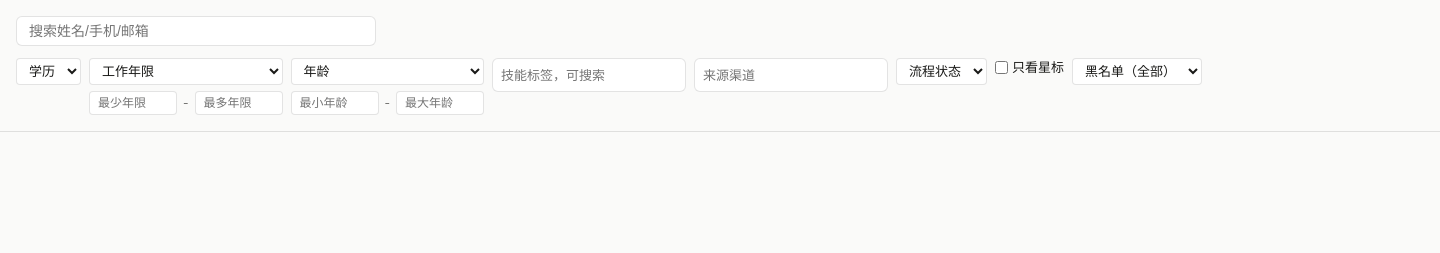
TalentPoolFilters › renders source options in multi-select menu
Focus the field with class "filters__source-input" at (791,75), box top-left (703, 63), bottom-right (879, 87)
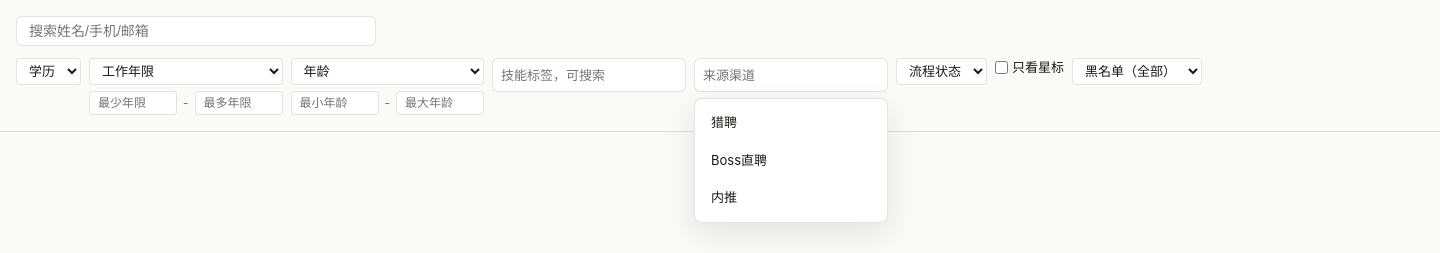
Expected: the number of buttons with class "filter-multi-select__option" is 3, top-left (701, 105), bottom-right (881, 140); top-left (701, 142), bottom-right (881, 178); top-left (701, 180), bottom-right (881, 216)
